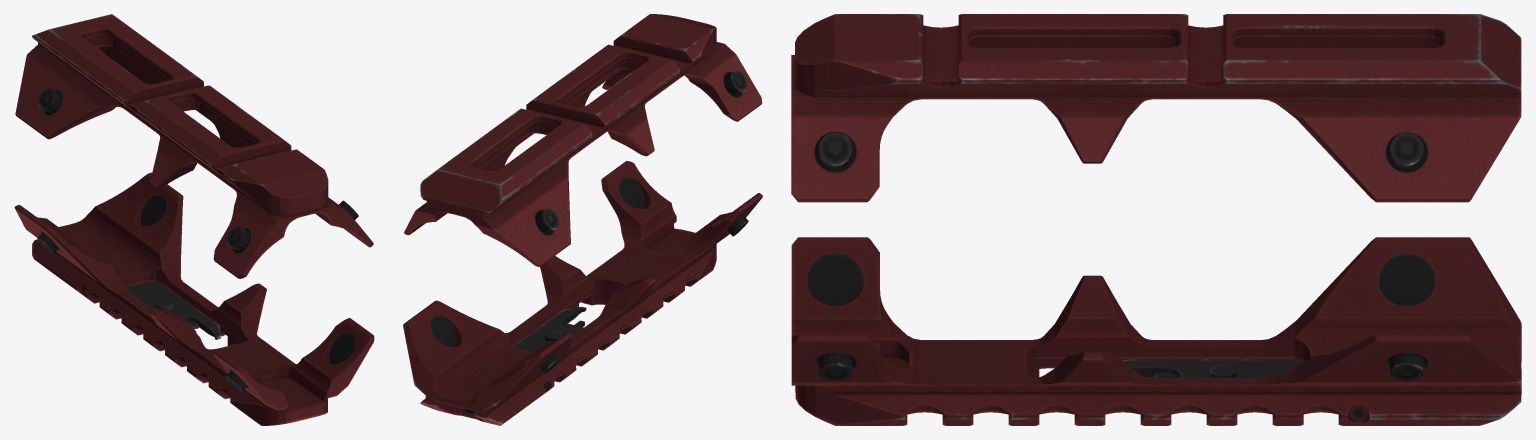
3 renders of one model, left to right at view 1: azimuth 30°, elevation 25°; view 2: azimuth 150°, elevation 25°; view 3: azimuth 270°, elevation 25°, orthographic. The views are drawn at different scales.
Visible parts, largest first — view 1: TW_68a6ff952885e0bbd30bb6fd_folded_PZ_Import; view 2: TW_68a6ff952885e0bbd30bb6fd_folded_PZ_Import; view 3: TW_68a6ff952885e0bbd30bb6fd_folded_PZ_Import.
Part boxes in pixels (left/top/right/bottom): TW_68a6ff952885e0bbd30bb6fd_folded_PZ_Import: left=14, top=14, right=374, bottom=425; TW_68a6ff952885e0bbd30bb6fd_folded_PZ_Import: left=403, top=14, right=762, bottom=425; TW_68a6ff952885e0bbd30bb6fd_folded_PZ_Import: left=791, top=14, right=1521, bottom=425.
Bounding box in the file's own units: 0.021 × 0.0639 × 0.0353.
1 material, 1 textured.
